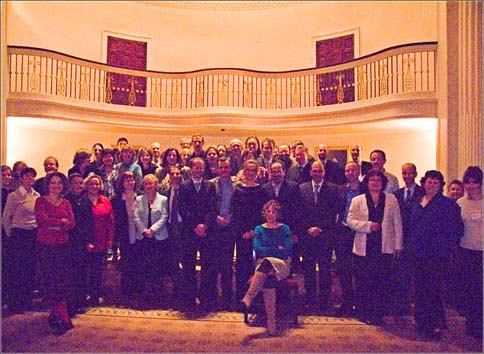person: (240, 200, 294, 337)
